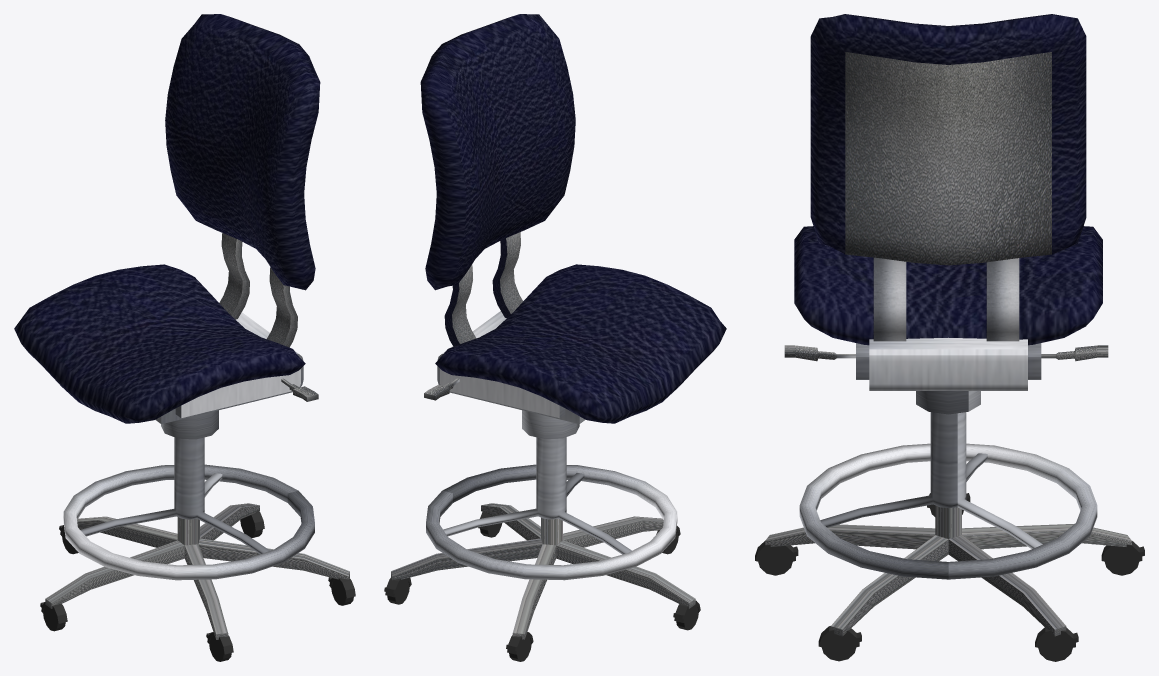
Rendered from rolling_chair_2.fbx.
The picture shows the model from 3 angles, left to right: view 1: azimuth 30°, elevation 25°; view 2: azimuth 150°, elevation 25°; view 3: azimuth 270°, elevation 25°; orthographic projection. The views are drawn at different scales.
Visible parts, largest first — view 1: seat_back, seat_cushion, outer_tube, bottom_tube, inner_tub, seat_support, support2, support, top_tube; view 2: seat_back, seat_cushion, outer_tube, bottom_tube, inner_tub, seat_support, support, support2, top_tube; view 3: seat_back, seat_cushion, outer_tube, bottom_tube, seat_support, inner_tub, pCylinder4 (×4), support, support2, top_tube, pedal1, pedal2.
Boxes of the visible parts, box(x1,y1,x2,y2) form: seat_back: box(165, 14, 320, 290); seat_cushion: box(14, 264, 305, 423); outer_tube: box(63, 464, 314, 580); bottom_tube: box(45, 503, 349, 639); inner_tub: box(80, 437, 269, 554); seat_support: box(155, 312, 303, 424); support2: box(219, 233, 249, 319); support: box(267, 267, 297, 347); top_tube: box(161, 410, 218, 439); seat_back: box(420, 14, 575, 290); seat_cushion: box(435, 264, 726, 423); outer_tube: box(426, 464, 677, 580); bottom_tube: box(391, 503, 695, 639); inner_tub: box(443, 437, 631, 554); seat_support: box(437, 311, 585, 423); support: box(492, 232, 523, 317); support2: box(444, 265, 476, 346); top_tube: box(522, 410, 579, 439); seat_back: box(810, 14, 1086, 265); seat_cushion: box(794, 226, 1102, 345); outer_tube: box(799, 443, 1097, 579); bottom_tube: box(765, 505, 1131, 636); seat_support: box(856, 337, 1041, 390); inner_tub: box(820, 412, 1042, 548); pCylinder4 (×4): box(758, 547, 1138, 661); support: box(873, 257, 906, 341); support2: box(986, 258, 1019, 341); top_tube: box(916, 391, 980, 414); pedal1: box(784, 345, 855, 361); pedal2: box(1041, 345, 1108, 361).
Size of the model in its own units: 1.13 by 2.24 by 1.26.
Materials: 2 (1 with a texture image).
